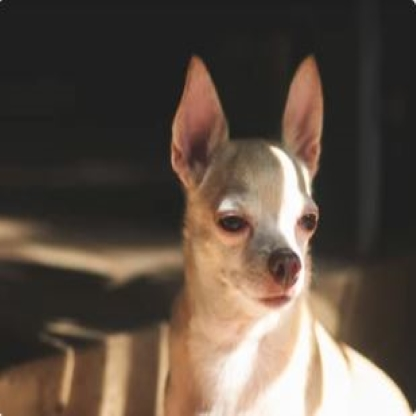chihuahua: (161, 50, 408, 416)
